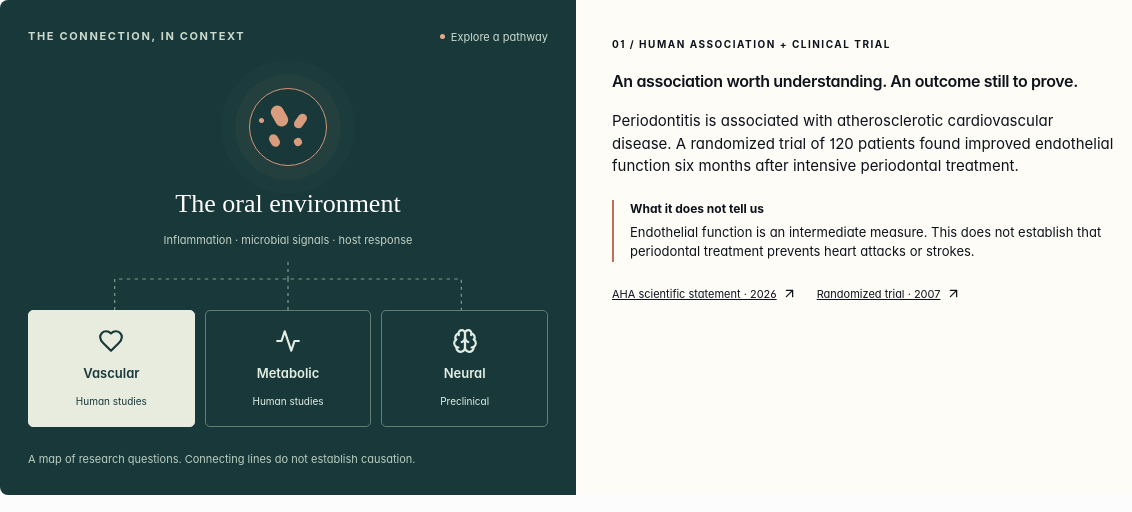
Test: a clinician exploring and sharing the brief › keeps the finding, limitation, and source together when changing pathways
What coordinates should you click on to do the following:
click the button "Metabolic Human studies"
I would click on:
 (288, 368)
Its box is left=205, top=310, right=371, bottom=427.
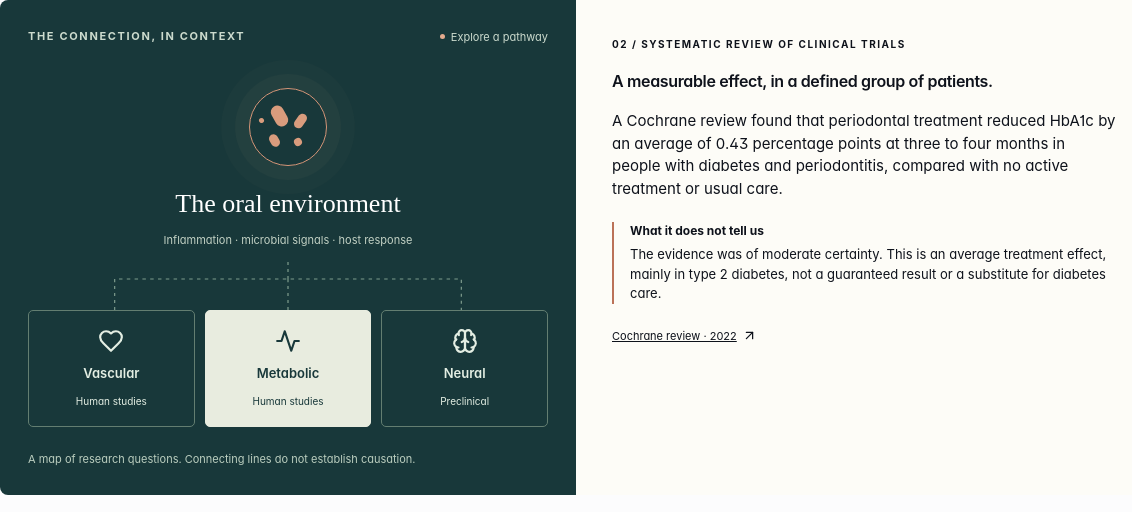
Now the text "0.43 percentage points" is shown, box left=612, top=111, right=1116, bottom=198
Now the text "not a guaranteed result" is shown, box left=630, top=246, right=1106, bottom=301
What coordinates should you click on to do the following:
click the button "Neural Preclinical"
I would click on:
 (465, 368)
Its box is left=381, top=310, right=548, bottom=427.
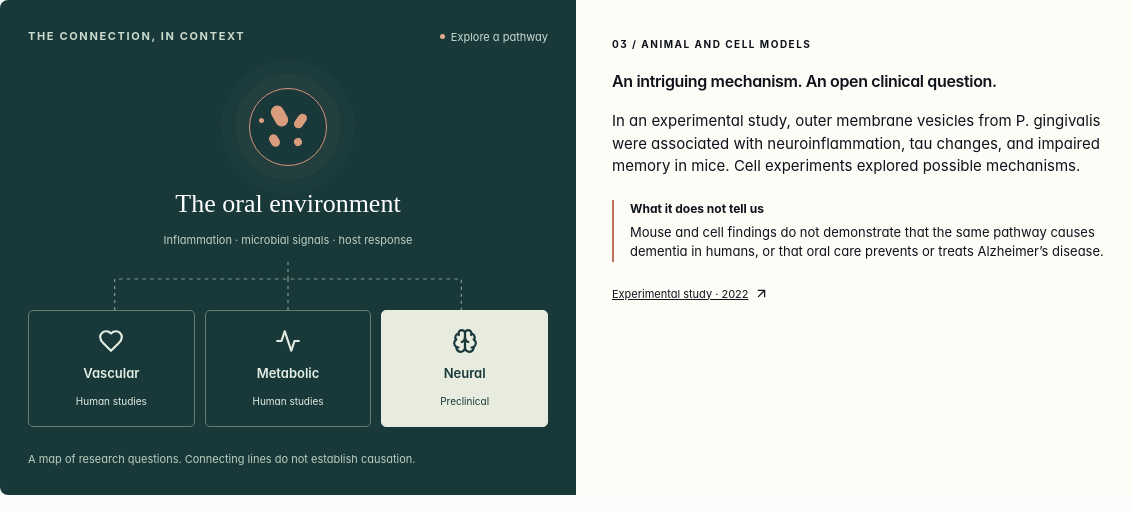
Now the text "Mouse and cell findings do not demonstrate" is shown, box left=630, top=224, right=1104, bottom=259
Now the text "0.43 percentage points" is gone
